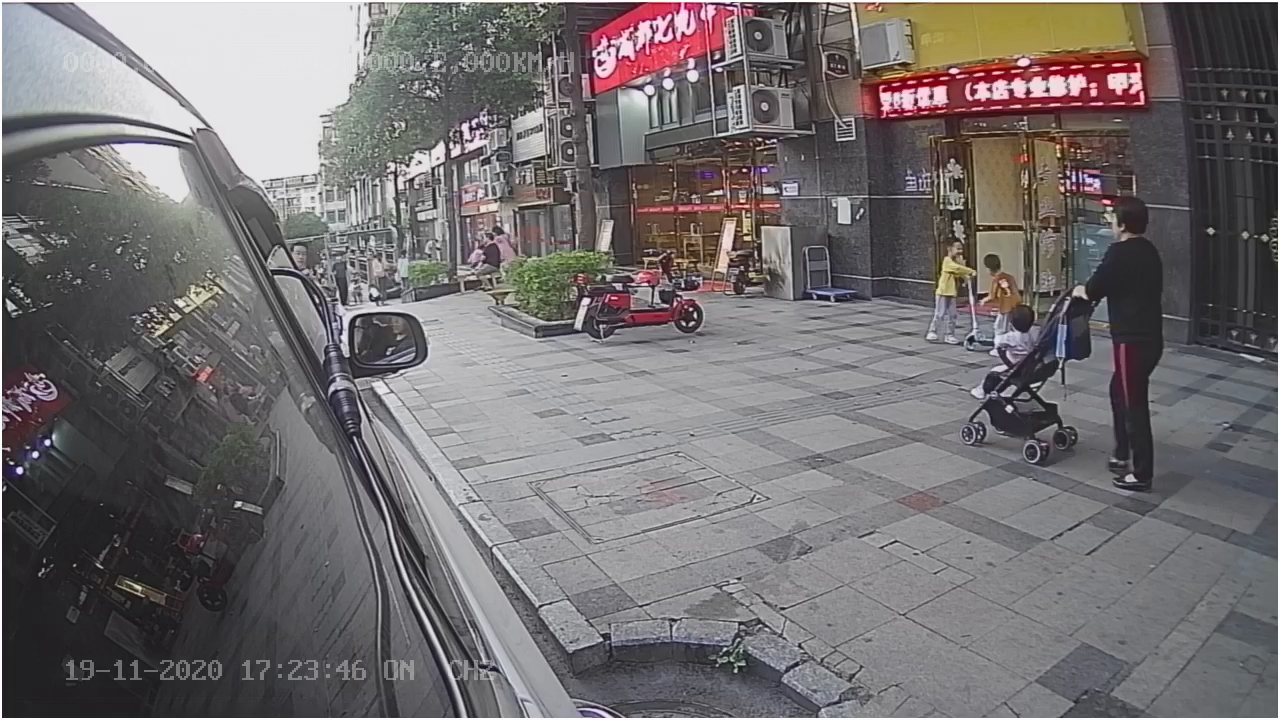person: (1073, 196, 1168, 496)
